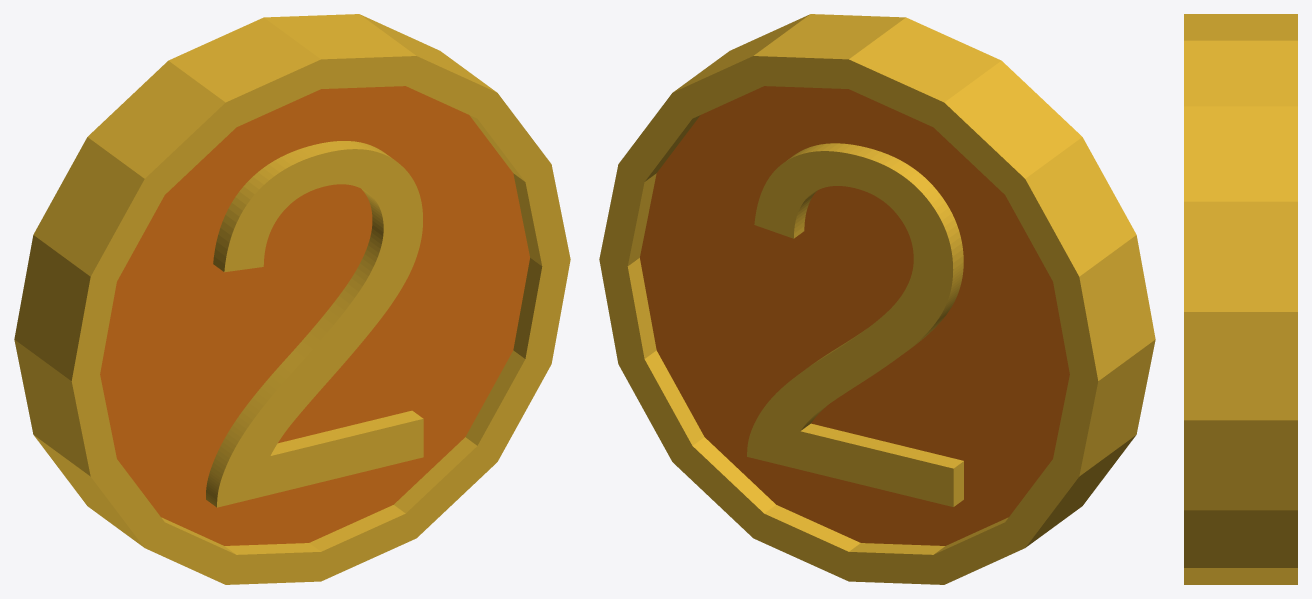
Rendered from TwoCoin.fbx.
The picture shows the model from 3 angles, left to right: view 1: azimuth 30°, elevation 25°; view 2: azimuth 150°, elevation 25°; view 3: azimuth 270°, elevation 25°; orthographic projection.
Parts seen in each view (by area): view 1: TwoCoin; view 2: TwoCoin; view 3: TwoCoin.
Boxes of the visible parts, bbox=[...] form: TwoCoin: bbox=[14, 14, 570, 584]; TwoCoin: bbox=[599, 14, 1155, 584]; TwoCoin: bbox=[1184, 14, 1297, 584].
Bounding box in the file's own units: 84.1 × 84.1 × 16.74.
